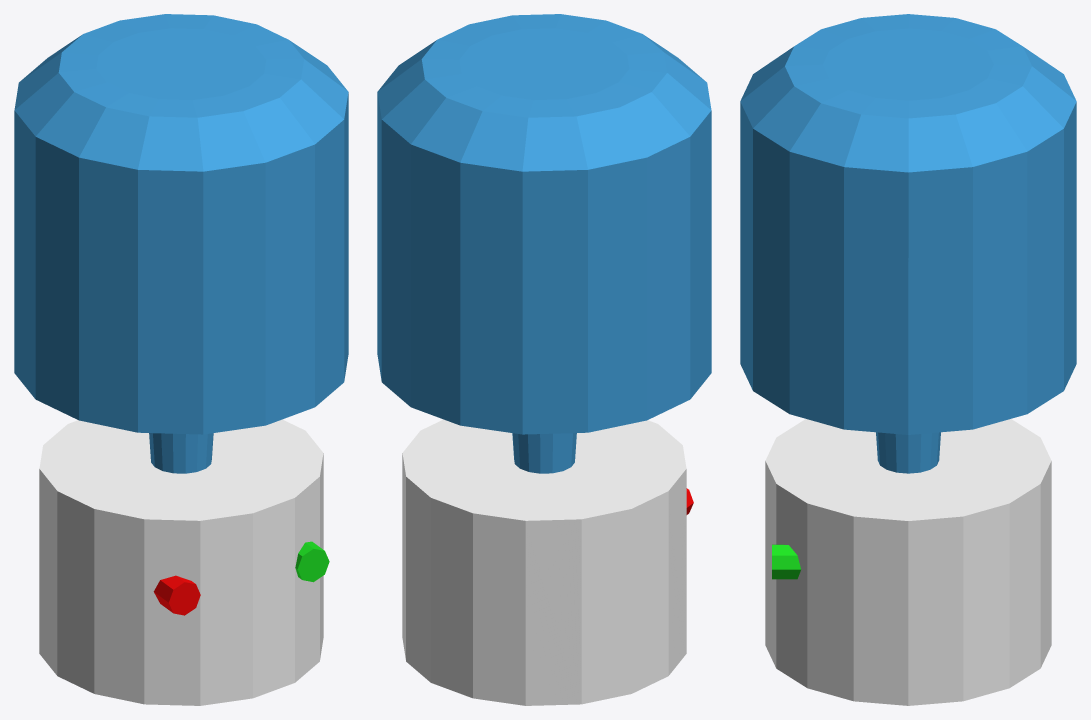
The model's file is ReplaceWaterJug.fbx.
3 renders of one model, left to right at view 1: azimuth 30°, elevation 25°; view 2: azimuth 150°, elevation 25°; view 3: azimuth 270°, elevation 25°, orthographic.
Parts seen in each view (by area): view 1: ReplaceWaterJug; view 2: ReplaceWaterJug; view 3: ReplaceWaterJug.
Boxes of the visible parts, x1,y1,x2,y2 form: ReplaceWaterJug: (14,14,348,705); ReplaceWaterJug: (377,14,711,705); ReplaceWaterJug: (740,14,1076,705).
Size of the model in its own units: 195 by 371 by 195.
